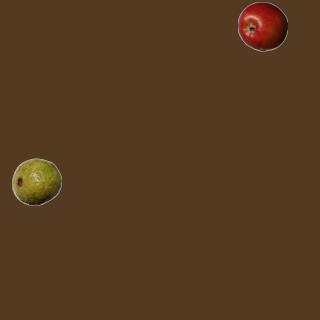Apple Braeburn: (237, 1, 287, 51)
Guava: (11, 156, 61, 206)
